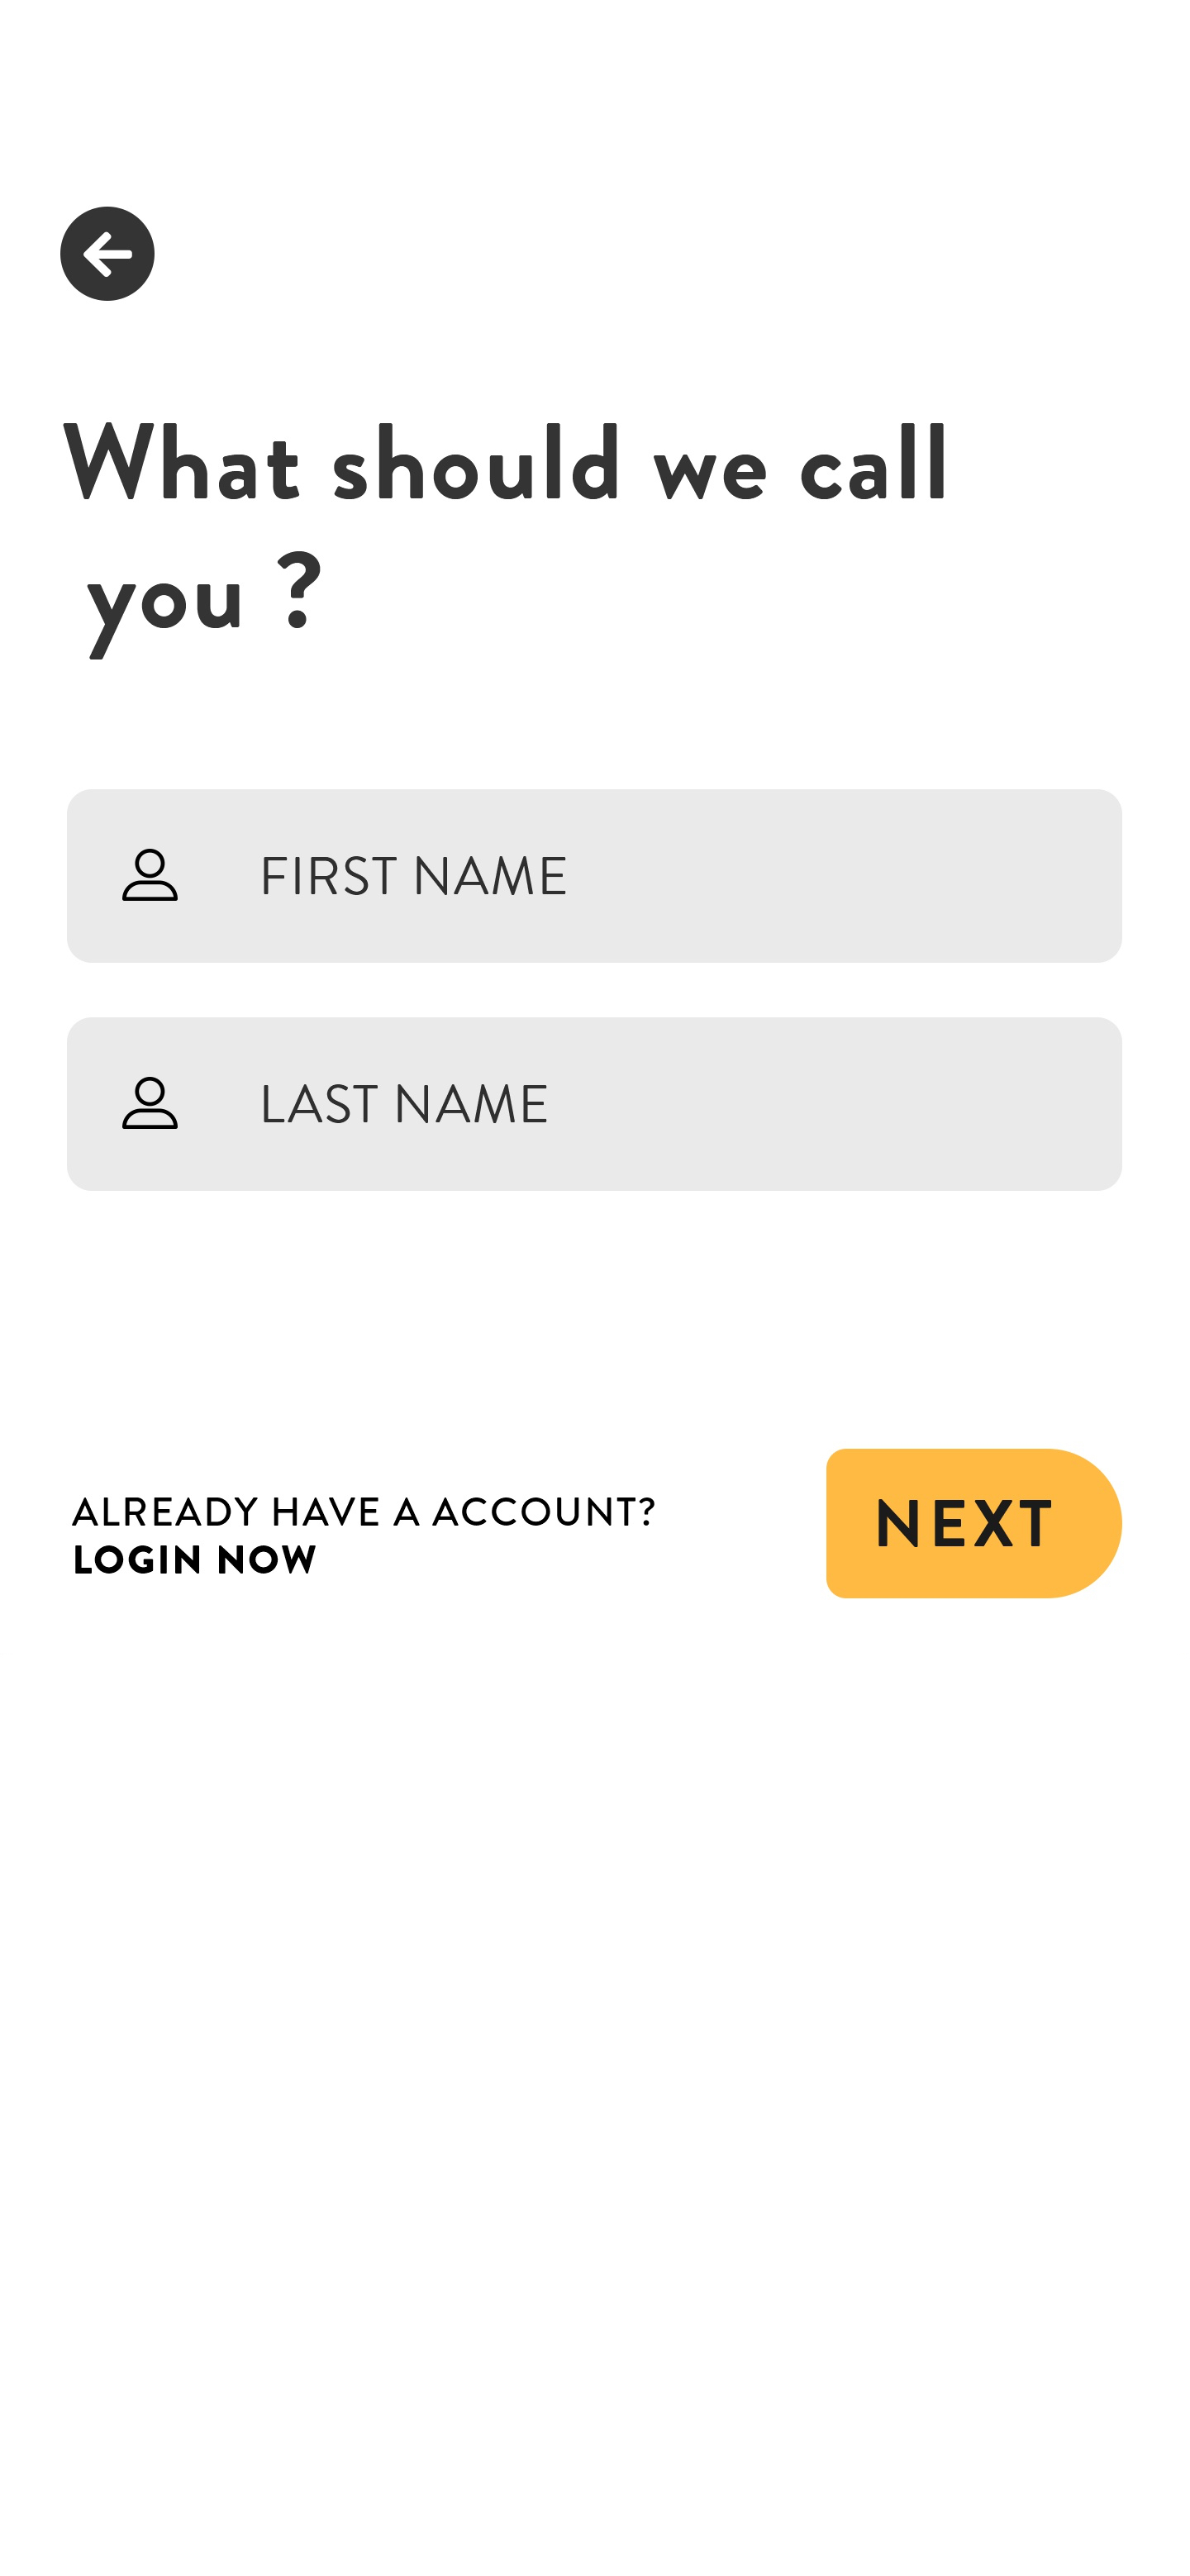EditText: (67, 789, 1123, 964), (67, 1017, 1123, 1191)
Icon: (61, 207, 156, 302), (122, 1076, 179, 1130), (122, 848, 179, 902)
Text: (62, 422, 945, 660), (72, 1498, 656, 1526), (263, 856, 567, 895), (263, 1083, 549, 1124), (76, 1546, 317, 1574)
TextButton: (827, 1449, 1123, 1599)
